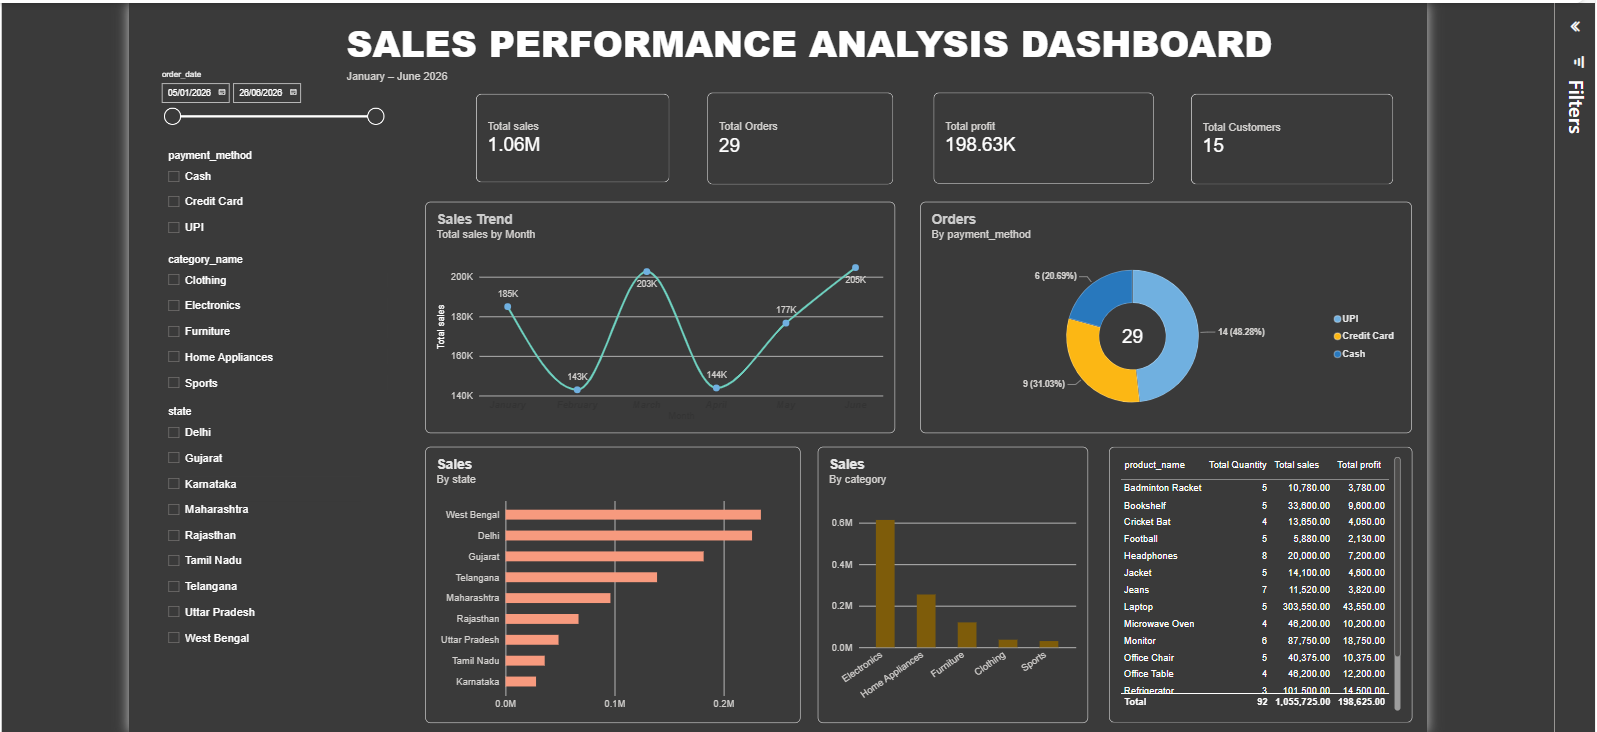

The dashboard page shown, as its layout file describes it:
{"tool":"powerbi","page":{"name":"SALES_DASHB","canvas":[1920,1080],"ordinal":0},"visuals":[{"type":"textbox","title":"SALES PERFORMANCE ANALYSIS DASHBOARD","box":[322.1,21.5,1417.2,102.6],"z":0},{"type":"cardVisual","fields":{"Data":["powerbi_practice categories.Total sales"]},"box":[508.5,130.3,296.8,141.2],"z":1},{"type":"cardVisual","fields":{"Data":["Parameter.Total Orders"]},"box":[850.5,128.5,285.9,146.6],"z":2},{"type":"cardVisual","fields":{"Data":["powerbi_practice categories.Total profit"]},"box":[1185.3,128.5,336.4,145.5],"z":3},{"type":"cardVisual","fields":{"Data":["Parameter.Total Customers"]},"box":[1567.2,130.3,309.5,144.8],"z":4},{"type":"slicer","fields":{"Values":["powerbi_practice orders.order_date"]},"box":[39.8,97.7,343.8,119.4],"z":5},{"type":"lineChart","title":"Sales Trend","fields":{"Category":["powerbi_practice orders.order_date.Variation.Date Hierarchy.Month"],"Y":["powerbi_practice categories.Total sales"]},"box":[437.9,293.2,694.9,342],"z":6},{"type":"donutChart","title":"Orders","fields":{"Category":["powerbi_practice orders.payment_method"],"Y":["Parameter.Total Orders"]},"box":[1170.9,293.2,727.5,342],"z":7},{"type":"clusteredBarChart","title":"Sales","fields":{"Category":["powerbi_practice customers.state"],"Y":["powerbi_practice categories.Total sales"]},"box":[437.9,656.9,555.6,409],"z":8},{"type":"clusteredColumnChart","title":"Sales","fields":{"Category":["powerbi_practice categories.category_name"],"Y":["powerbi_practice categories.Total sales"]},"box":[1018.8,656.9,399.9,409],"z":9},{"type":"tableEx","fields":{"Values":["powerbi_practice products.product_name","Parameter.Total Quantity","powerbi_practice categories.Total sales","powerbi_practice categories.Total profit"]},"box":[1450.6,656.1,448.6,408],"z":10},{"type":"slicer","fields":{"Values":["powerbi_practice orders.payment_method"]},"box":[50.7,217.2,228,152],"z":11},{"type":"slicer","fields":{"Values":["powerbi_practice categories.category_name"]},"box":[50.7,369.2,333,226.2],"z":12},{"type":"slicer","fields":{"Values":["powerbi_practice customers.state"]},"box":[50.7,595.4,293.2,378.2],"z":13}]}

Visuals, with their boxes on the page's 1920x1080 design canvas (x1, y1, x2, y2). These are canvas units, not pixel positions in the 1597x732 screenshot, which may show the page scaled, cropped or inside an application window:
"SALES PERFORMANCE ANALYSIS DASHBOARD" textbox: (x1=322, y1=22, x2=1739, y2=124)
cardVisual - powerbi_practice categories.Total sales: (x1=508, y1=130, x2=805, y2=272)
cardVisual - Parameter.Total Orders: (x1=850, y1=128, x2=1136, y2=275)
cardVisual - powerbi_practice categories.Total profit: (x1=1185, y1=128, x2=1522, y2=274)
cardVisual - Parameter.Total Customers: (x1=1567, y1=130, x2=1877, y2=275)
slicer - powerbi_practice orders.order_date: (x1=40, y1=98, x2=384, y2=217)
"Sales Trend" lineChart: (x1=438, y1=293, x2=1133, y2=635)
"Orders" donutChart: (x1=1171, y1=293, x2=1898, y2=635)
"Sales" clusteredBarChart: (x1=438, y1=657, x2=994, y2=1066)
"Sales" clusteredColumnChart: (x1=1019, y1=657, x2=1419, y2=1066)
tableEx - powerbi_practice products.product_name x Parameter.Total Quantity: (x1=1451, y1=656, x2=1899, y2=1064)
slicer - powerbi_practice orders.payment_method: (x1=51, y1=217, x2=279, y2=369)
slicer - powerbi_practice categories.category_name: (x1=51, y1=369, x2=384, y2=595)
slicer - powerbi_practice customers.state: (x1=51, y1=595, x2=344, y2=974)
